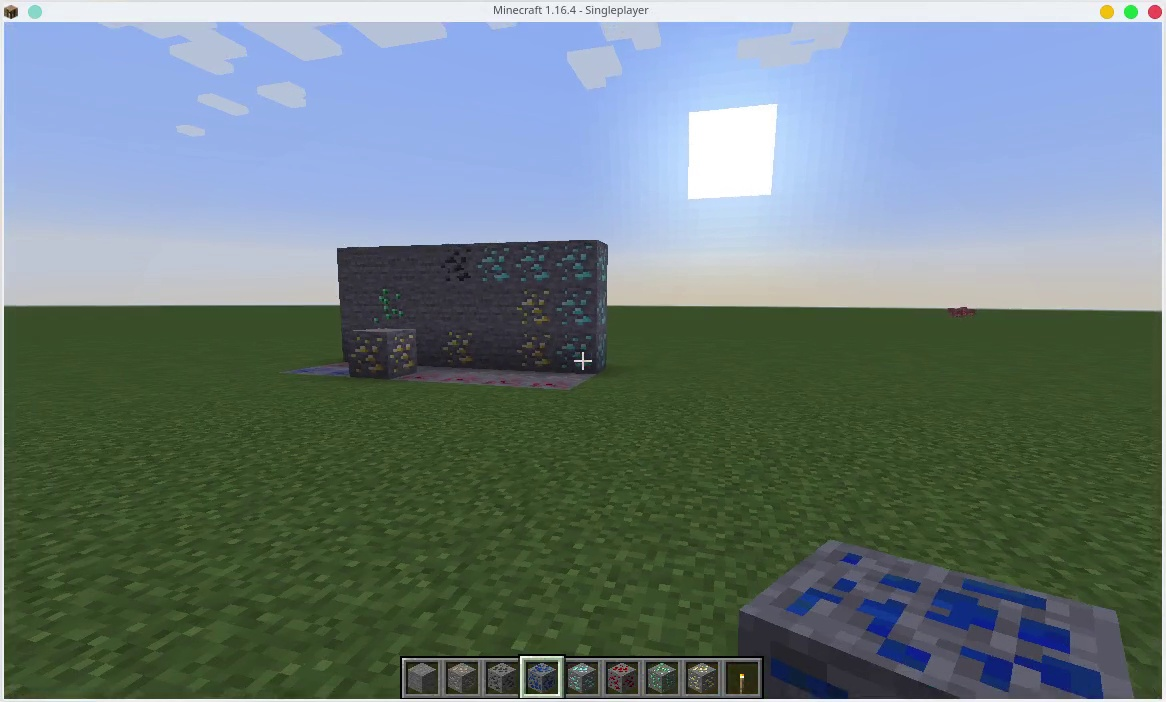gold: (348, 328, 414, 376), (441, 332, 481, 370), (517, 327, 549, 370), (516, 295, 554, 322), (684, 661, 717, 692)
